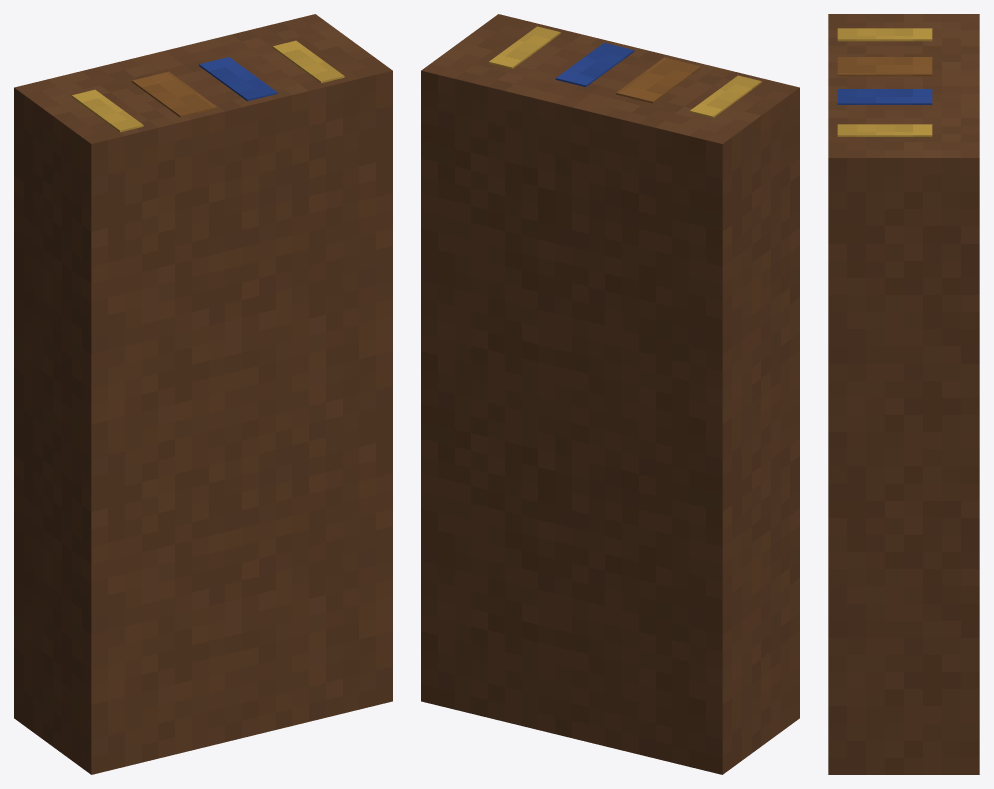
Rendered from bibliotheque.glb.
3 renders of one model, left to right at view 1: azimuth 30°, elevation 25°; view 2: azimuth 150°, elevation 25°; view 3: azimuth 270°, elevation 25°, orthographic. The views are drawn at different scales.
Visible parts, largest first — view 1: Bibliotheque; view 2: Bibliotheque; view 3: Bibliotheque.
Part boxes in pixels (box(x1,y1,x2,y2)): Bibliotheque: box(14, 14, 392, 774); Bibliotheque: box(421, 14, 799, 774); Bibliotheque: box(828, 14, 979, 774).
Size of the model in its own units: 0.9 by 1.8 by 0.4.
8 materials, 8 textured.
